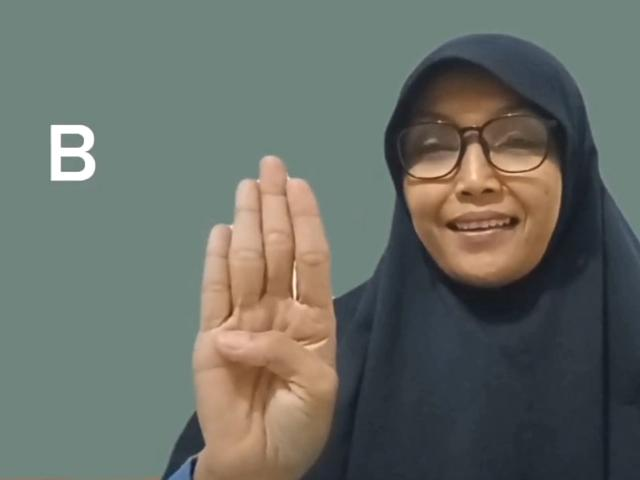B: (192, 154, 338, 474)
